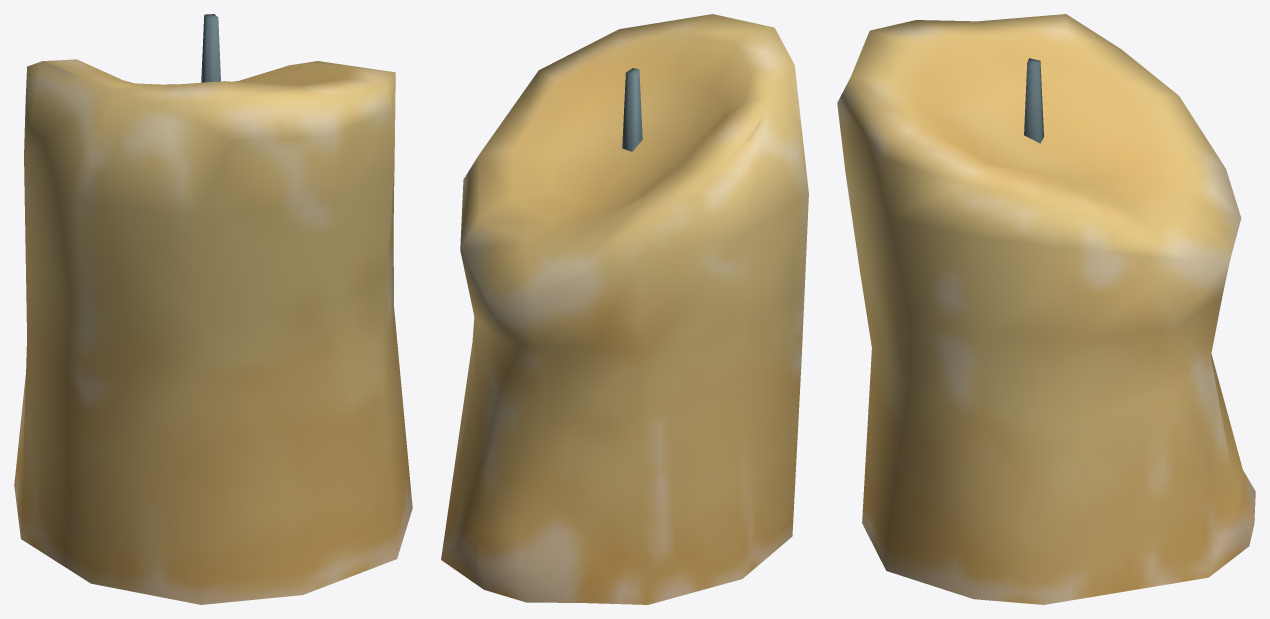
Rendered from Candle_1.glb.
3 views of the same model, side by side, from view 1: azimuth 30°, elevation 25°; view 2: azimuth 150°, elevation 25°; view 3: azimuth 270°, elevation 25° (orthographic). The views are drawn at different scales.
Visible parts, largest first — view 1: Candle_1; view 2: Candle_1; view 3: Candle_1.
Boxes of the visible parts, x1,y1,x2,y2 form: Candle_1: (14, 14, 412, 604); Candle_1: (441, 14, 808, 604); Candle_1: (837, 14, 1255, 604).
Bounding box in the file's own units: 0.0939 × 0.132 × 0.1079.
Materials: 1 (1 with a texture image).
